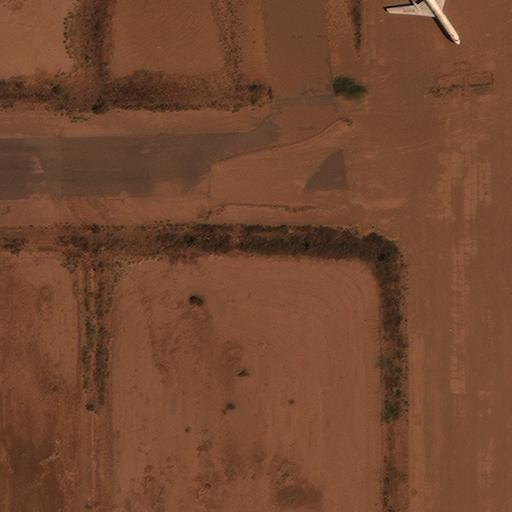Medium Civil Transport: (388, 0, 459, 44)
